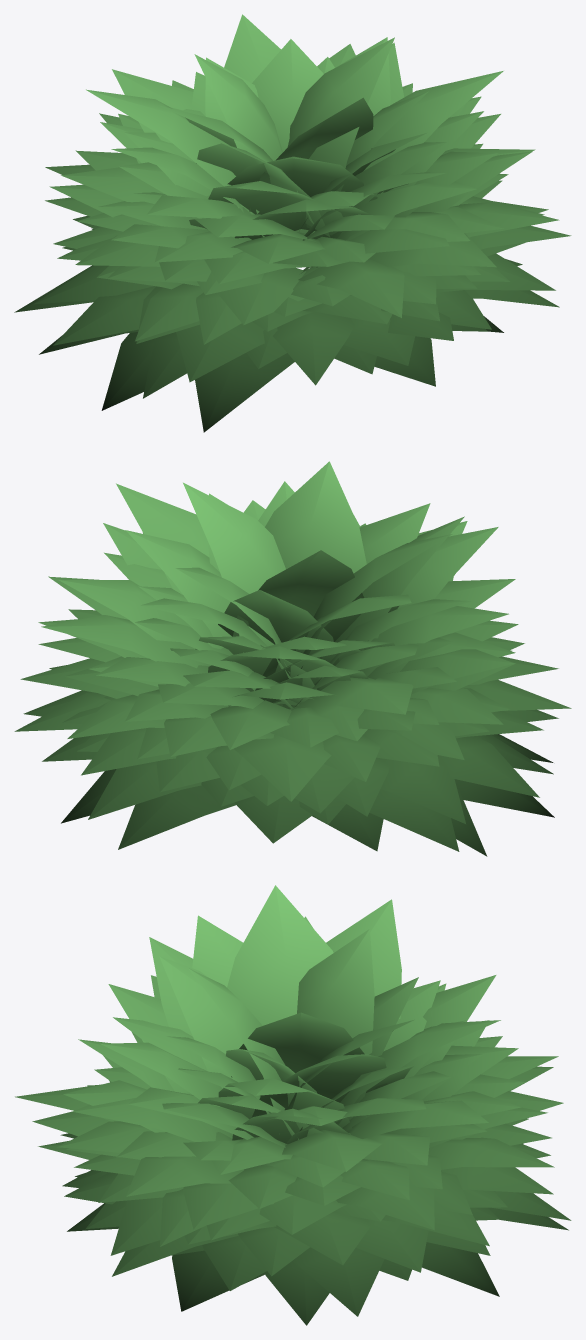
The model's file is SM_Veg_01_BushLarge.fbx.
The picture shows the model from 3 angles, top to bottom: view 1: azimuth 30°, elevation 25°; view 2: azimuth 150°, elevation 25°; view 3: azimuth 270°, elevation 25°; orthographic projection. The views are drawn at different scales.
Parts seen in each view (by area): view 1: SM_Veg_01_BushLarge; view 2: SM_Veg_01_BushLarge; view 3: SM_Veg_01_BushLarge.
Boxes of the visible parts, x1,y1,x2,y2 form: SM_Veg_01_BushLarge: [14, 14, 571, 432]; SM_Veg_01_BushLarge: [14, 461, 571, 856]; SM_Veg_01_BushLarge: [15, 885, 571, 1325].
Size of the model in its own units: 267 by 150 by 271.
